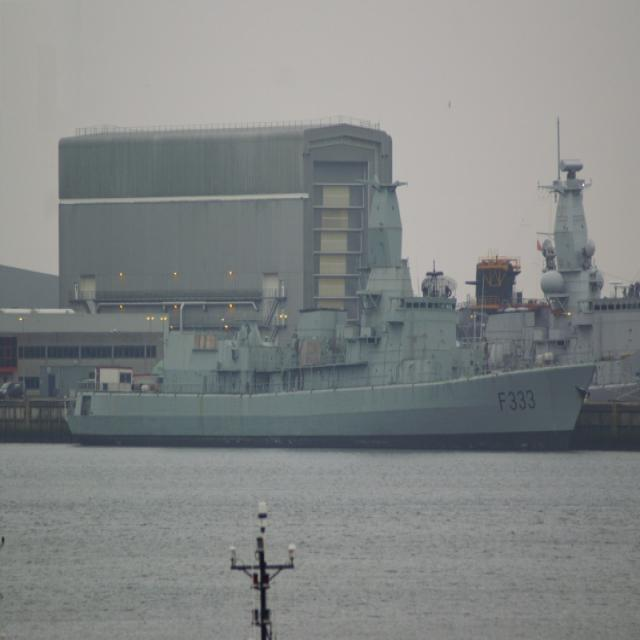Fragata: (57, 168, 600, 461)
